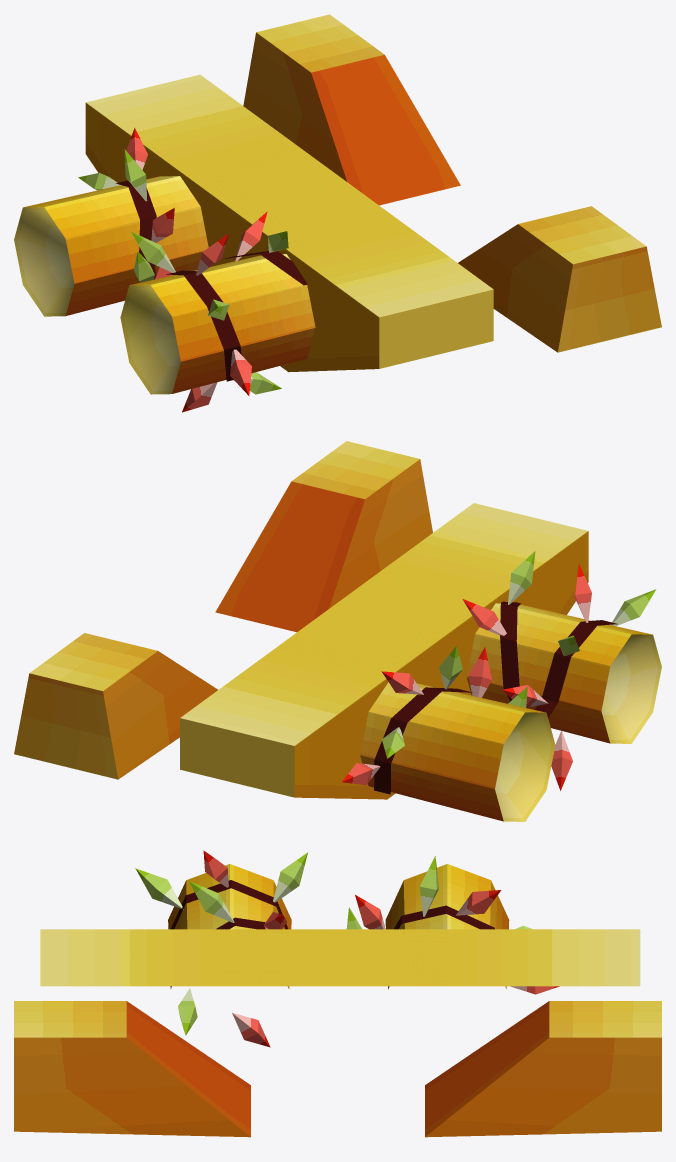
Rendered from Jingles_Power1.glb.
The picture shows the model from 3 angles, top to bottom: view 1: azimuth 30°, elevation 25°; view 2: azimuth 150°, elevation 25°; view 3: azimuth 270°, elevation 25°; orthographic projection. The views are drawn at different scales.
Visible parts, largest first — view 1: Jingles_Power1; view 2: Jingles_Power1; view 3: Jingles_Power1.
Part boxes in pixels (x1,y1,x2,y2): Jingles_Power1: (14,14,661,412); Jingles_Power1: (14,441,661,821); Jingles_Power1: (14,850,661,1137).
Size of the model in its own units: 3.19 by 1.34 by 3.84.
1 material, 1 textured.
